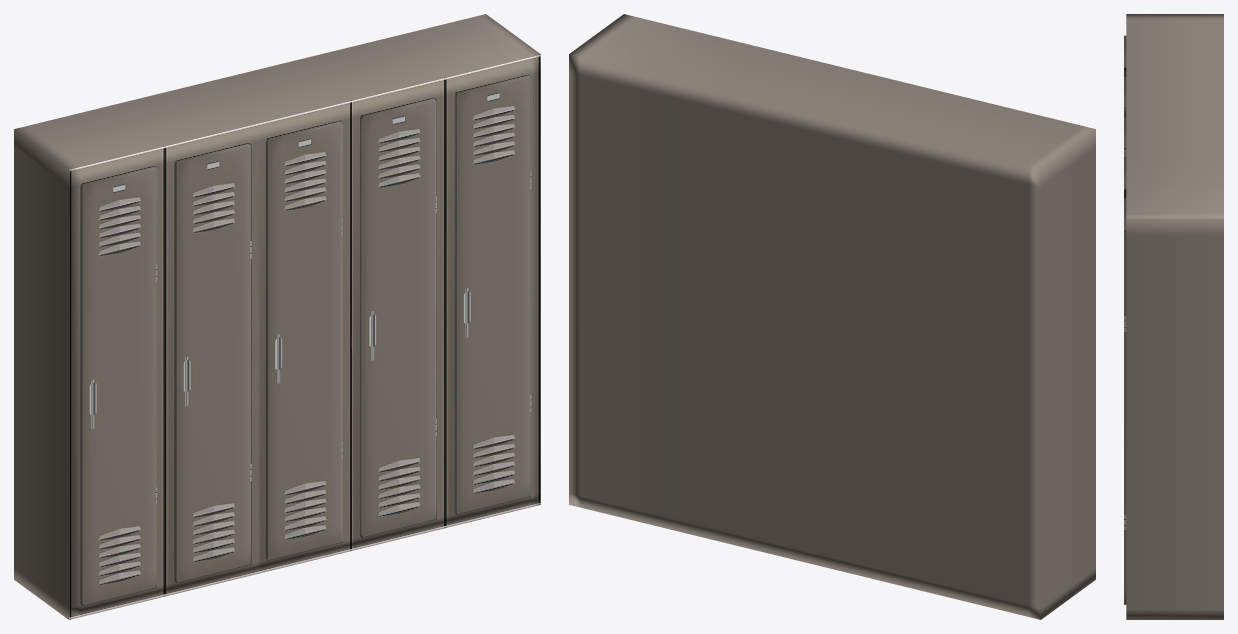
The model's file is lockers.fbx.
3 views of the same model, side by side, from view 1: azimuth 30°, elevation 25°; view 2: azimuth 150°, elevation 25°; view 3: azimuth 270°, elevation 25° (orthographic). The views are drawn at different scales.
Visible parts, largest first — view 1: Cube; view 2: Cube; view 3: Cube.
Boxes of the visible parts, <box> form: Cube: <box>14,14,540,619</box>; Cube: <box>569,14,1095,619</box>; Cube: <box>1124,14,1223,619</box>.
Bounding box in the file's own units: 248 × 226 × 51.17.
